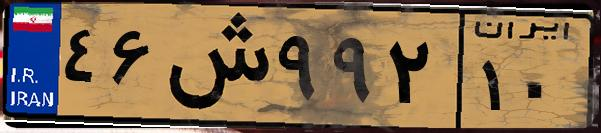0: (525, 38, 570, 115)
1: (475, 38, 525, 113)
2: (385, 28, 445, 110)
4: (57, 26, 110, 100)
6: (110, 28, 158, 98)
9: (270, 28, 330, 110), (330, 28, 385, 110)
ش: (158, 12, 270, 120)
